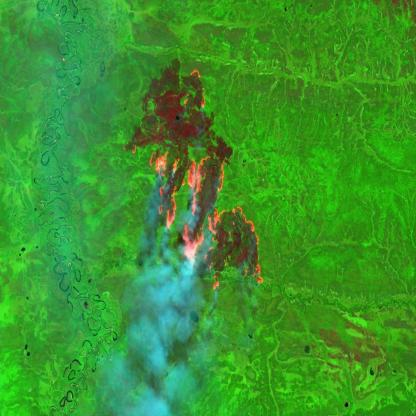fire: (147, 149, 264, 292), (181, 65, 208, 110), (121, 138, 139, 156)
